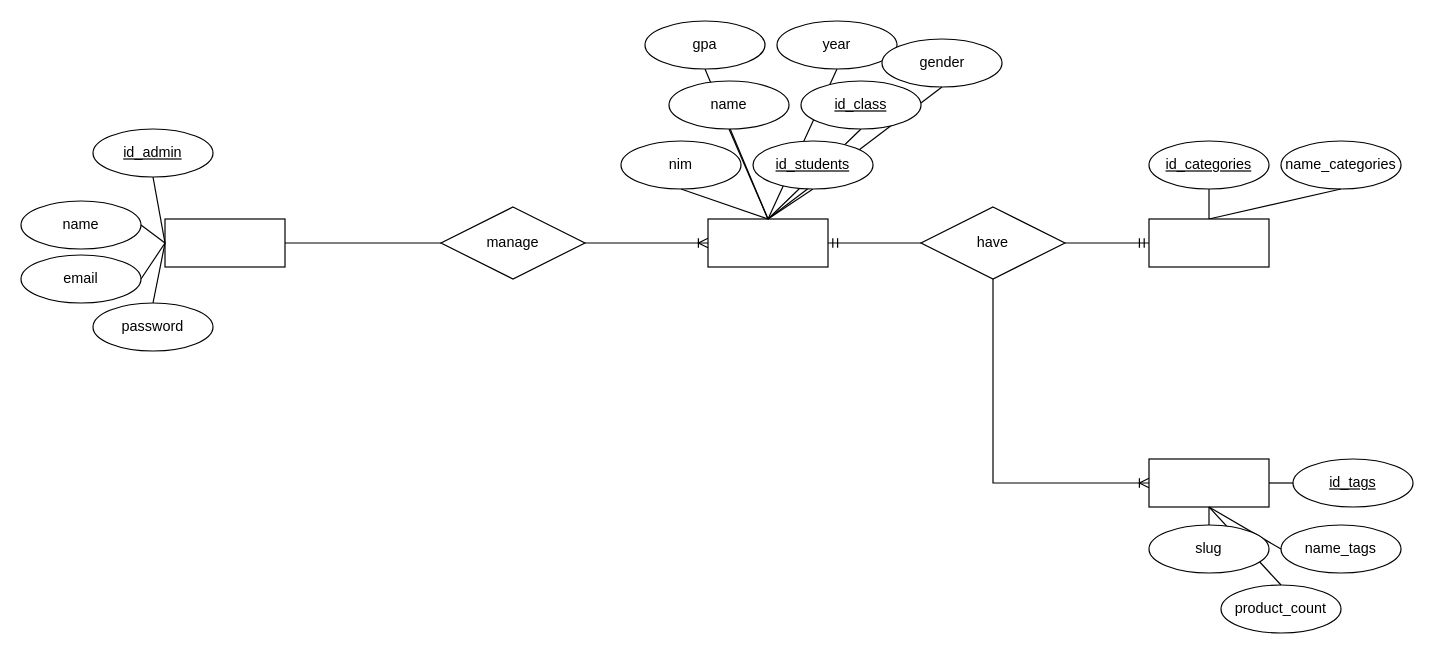
Some shapes in this 1434 by 654 pixel diagram are drawn without their labels. The shapes that lost their labels are listed below. From the top down, each one's box as (x1, y1, x2, y2) in pixels, then its label:
(164, 218, 285, 267): ADMIN
(707, 218, 828, 267): STUDENTS
(1148, 218, 1269, 267): PRODI
(1148, 458, 1269, 507): TAGS
